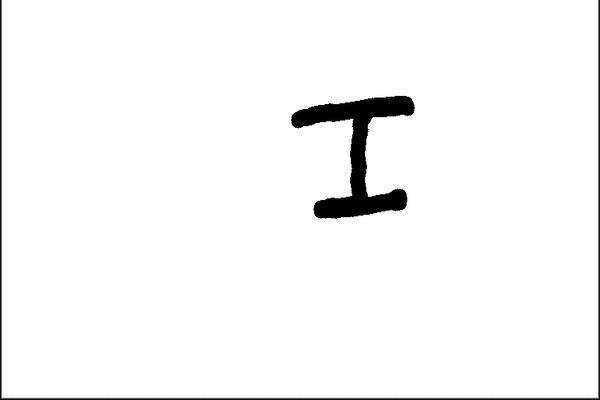i: (280, 79, 430, 233)
